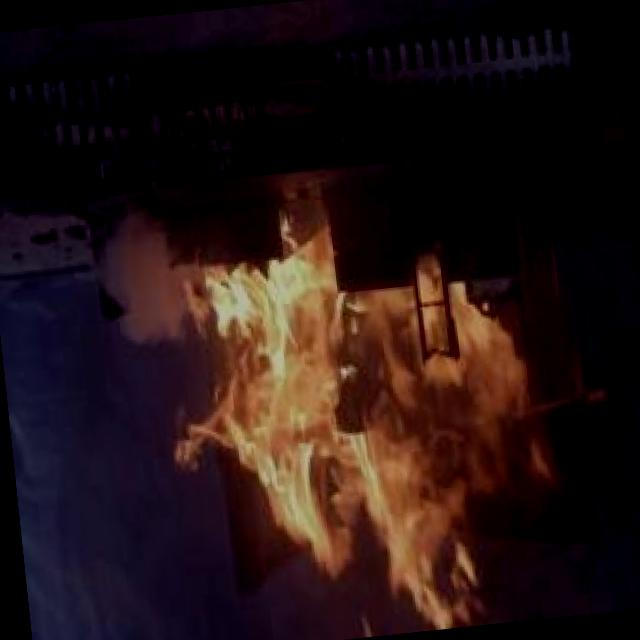fire: (127, 237, 594, 640)
